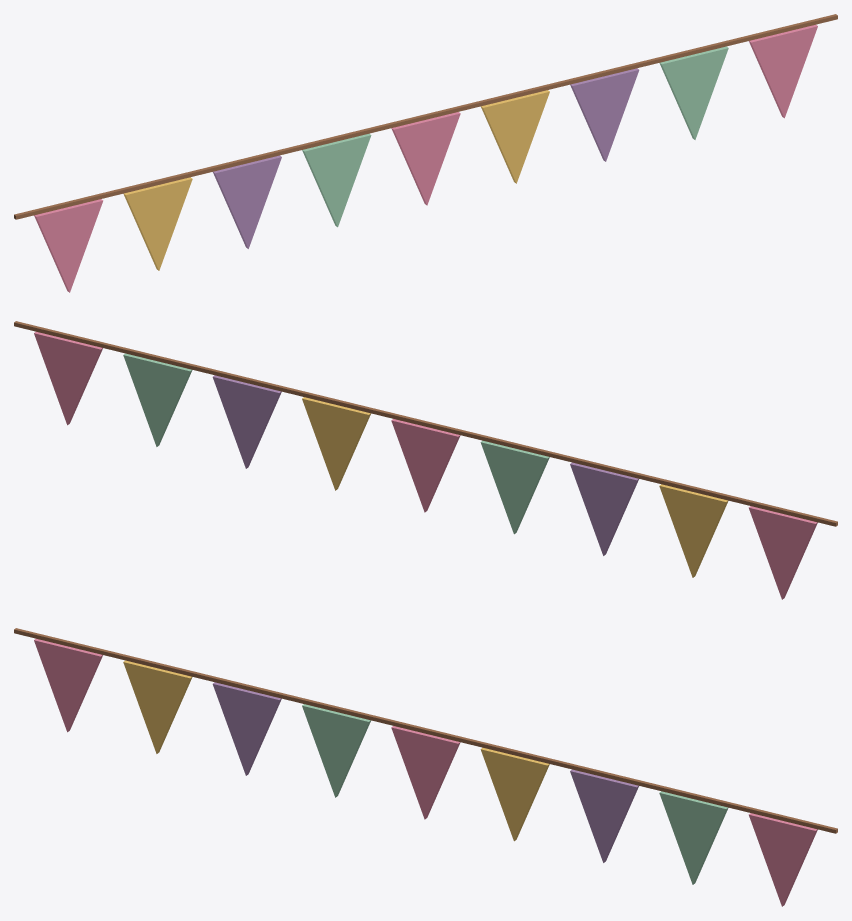
The model's file is 05_GuirnaldaPastel.obj.
3 renders of one model, top to bottom at view 1: azimuth 30°, elevation 25°; view 2: azimuth 150°, elevation 25°; view 3: azimuth 330°, elevation 25°, orthographic.
Visible parts, largest first — view 1: cuerda, banderin_4, banderin_2, banderin_5, banderin_9, banderin_3, banderin_6, banderin_7, banderin_1, banderin_8; view 2: cuerda, banderin_4, banderin_2, banderin_5, banderin_9, banderin_3, banderin_6, banderin_7, banderin_1, banderin_8; view 3: cuerda, banderin_6, banderin_1, banderin_5, banderin_8, banderin_3, banderin_4, banderin_7, banderin_9, banderin_2.
Boxes of the visible parts, bbox=[...] form: cuerda: bbox=[14, 14, 837, 219]; banderin_4: bbox=[302, 133, 371, 227]; banderin_2: bbox=[123, 177, 192, 270]; banderin_5: bbox=[391, 112, 460, 205]; banderin_9: bbox=[749, 24, 817, 118]; banderin_3: bbox=[213, 155, 281, 248]; banderin_6: bbox=[481, 90, 549, 183]; banderin_7: bbox=[570, 68, 639, 161]; banderin_1: bbox=[34, 199, 103, 292]; banderin_8: bbox=[659, 46, 728, 139]; cuerda: bbox=[14, 321, 837, 526]; banderin_4: bbox=[480, 440, 549, 534]; banderin_2: bbox=[659, 484, 728, 577]; banderin_5: bbox=[391, 419, 460, 512]; banderin_9: bbox=[34, 331, 102, 425]; banderin_3: bbox=[570, 462, 638, 555]; banderin_6: bbox=[302, 397, 370, 490]; banderin_7: bbox=[212, 375, 281, 468]; banderin_1: bbox=[748, 506, 817, 599]; banderin_8: bbox=[123, 353, 192, 446]; cuerda: bbox=[14, 628, 837, 833]; banderin_6: bbox=[480, 747, 549, 841]; banderin_1: bbox=[34, 638, 102, 732]; banderin_5: bbox=[391, 726, 460, 819]; banderin_8: bbox=[659, 791, 728, 884]; banderin_3: bbox=[212, 682, 281, 775]; banderin_4: bbox=[302, 704, 370, 797]; banderin_7: bbox=[570, 769, 638, 862]; banderin_9: bbox=[748, 813, 817, 906]; banderin_2: bbox=[123, 660, 192, 753].
Bounding box in the file's own units: 1.84 × 0.192 × 0.01.
